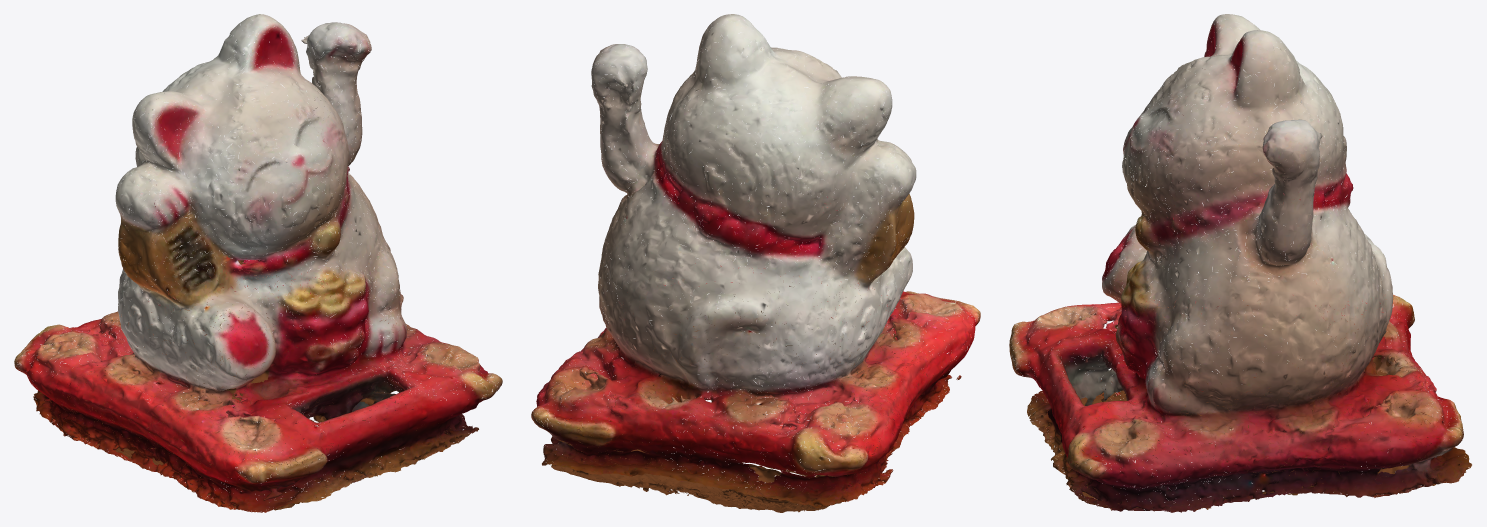
The model's file is maneki-neko.glb.
3 renders of one model, left to right at view 1: azimuth 30°, elevation 25°; view 2: azimuth 150°, elevation 25°; view 3: azimuth 270°, elevation 25°, orthographic. The views are drawn at different scales.
Parts seen in each view (by area): view 1: node0_primitive0, node0_primitive1, node0_primitive3, node0_primitive2, node0_primitive5, node0_primitive9, node0_primitive4, node0_primitive6, node0_primitive14, node0_primitive13, node0_primitive19, node0_primitive10 (+30 smaller); view 2: node0_primitive0, node0_primitive1, node0_primitive2, node0_primitive3, node0_primitive7, node0_primitive16, node0_primitive11, node0_primitive4, node0_primitive8, node0_primitive6, node0_primitive13, node0_primitive12 (+30 smaller); view 3: node0_primitive0, node0_primitive1, node0_primitive2, node0_primitive3, node0_primitive11, node0_primitive4, node0_primitive5, node0_primitive8, node0_primitive7, node0_primitive6, node0_primitive13, node0_primitive10 (+30 smaller).
Boxes of the visible parts, box(x1,y1,x2,y2) form: node0_primitive0: box(21, 23, 487, 512); node0_primitive1: box(34, 19, 467, 510); node0_primitive3: box(21, 14, 487, 510); node0_primitive2: box(28, 23, 482, 497); node0_primitive5: box(27, 46, 474, 477); node0_primitive9: box(36, 24, 500, 498); node0_primitive4: box(83, 14, 502, 502); node0_primitive6: box(36, 21, 501, 484); node0_primitive14: box(37, 20, 479, 482); node0_primitive13: box(25, 14, 482, 505); node0_primitive19: box(15, 25, 493, 509); node0_primitive10: box(21, 23, 479, 504); node0_primitive0: box(539, 32, 973, 489); node0_primitive1: box(539, 26, 976, 512); node0_primitive2: box(537, 44, 975, 488); node0_primitive3: box(542, 17, 969, 504); node0_primitive7: box(532, 47, 960, 496); node0_primitive16: box(548, 18, 974, 503); node0_primitive11: box(533, 14, 972, 499); node0_primitive4: box(544, 14, 943, 495); node0_primitive8: box(537, 39, 957, 505); node0_primitive6: box(536, 49, 971, 500); node0_primitive13: box(534, 15, 977, 490); node0_primitive12: box(546, 15, 980, 494); node0_primitive0: box(1010, 20, 1449, 510); node0_primitive1: box(1011, 28, 1462, 510); node0_primitive2: box(1010, 15, 1461, 511); node0_primitive3: box(1010, 14, 1465, 507); node0_primitive11: box(1031, 30, 1461, 495); node0_primitive4: box(1050, 15, 1443, 498); node0_primitive5: box(1009, 26, 1463, 500); node0_primitive8: box(1013, 48, 1450, 512); node0_primitive7: box(1025, 35, 1463, 482); node0_primitive6: box(1028, 37, 1449, 510); node0_primitive13: box(1017, 24, 1468, 508); node0_primitive10: box(1021, 36, 1457, 498).
Bounding box in the file's own units: 0.9101 × 1.13 × 1.
Materials: 49 (49 with a texture image).
